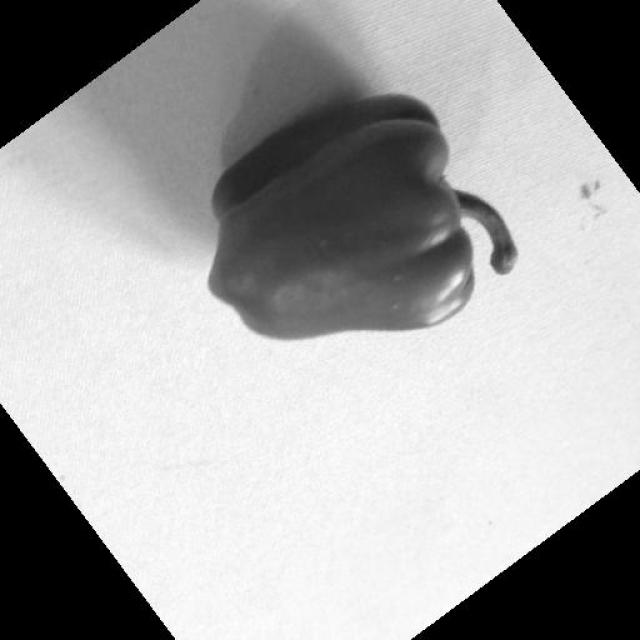Fresh_Capsicum: (221, 137, 522, 343)
